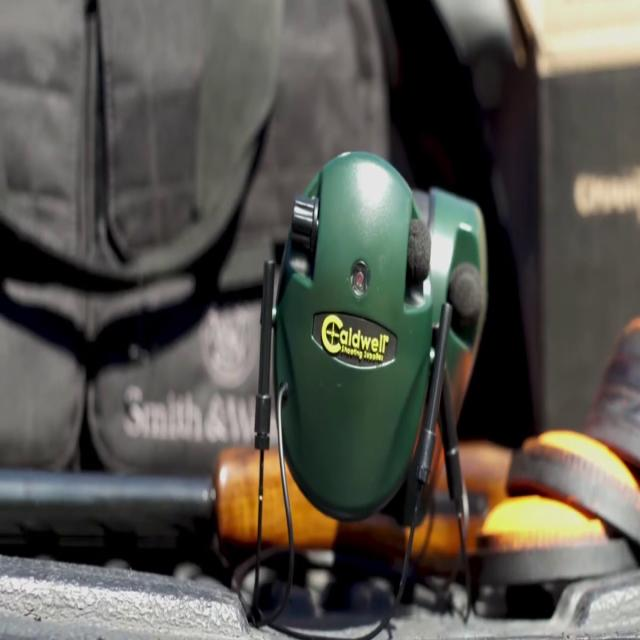earmuff: (252, 145, 454, 529)
